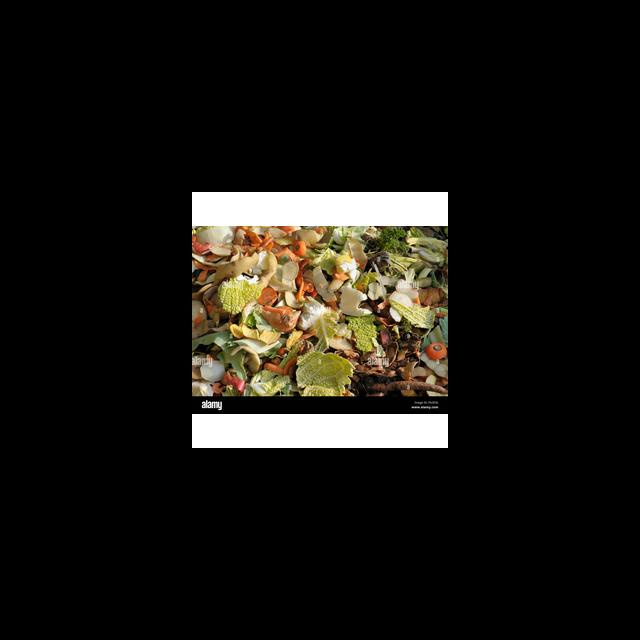food_waste: (192, 332, 300, 396), (192, 231, 262, 288), (302, 347, 357, 405), (386, 274, 436, 328), (212, 249, 274, 289), (214, 275, 263, 322), (287, 238, 321, 292), (330, 278, 365, 329), (424, 334, 448, 366)
